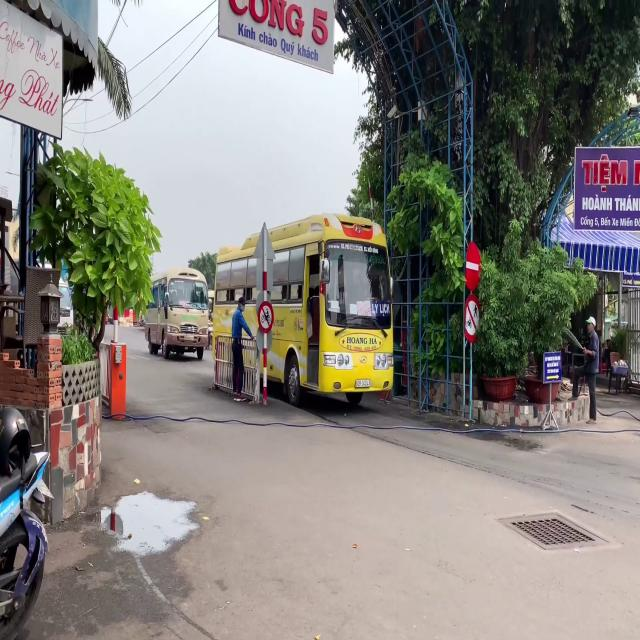bien_trang: (356, 378, 371, 388)
